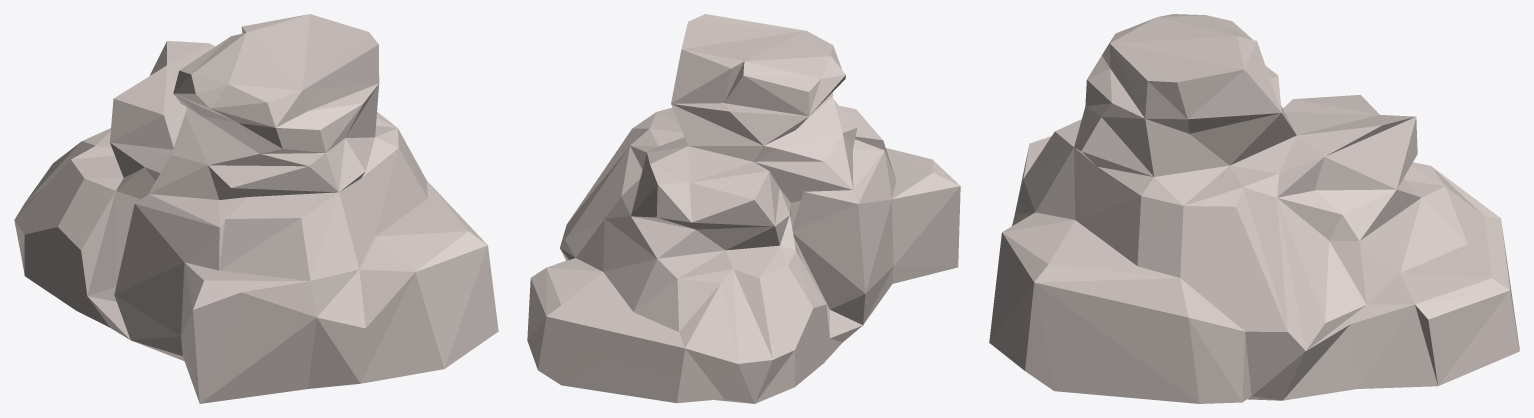
Rendered from rock_012.fbx.
The picture shows the model from 3 angles, left to right: view 1: azimuth 30°, elevation 25°; view 2: azimuth 150°, elevation 25°; view 3: azimuth 270°, elevation 25°; orthographic projection. The views are drawn at different scales.
Parts seen in each view (by area): view 1: rock.012; view 2: rock.012; view 3: rock.012.
Part boxes in pixels (<box>): rock.012: <box>14,14,498,403</box>; rock.012: <box>527,14,960,403</box>; rock.012: <box>989,14,1519,403</box>.
Size of the model in its own units: 1312 by 1059 by 1780.
1 material, 1 textured.
